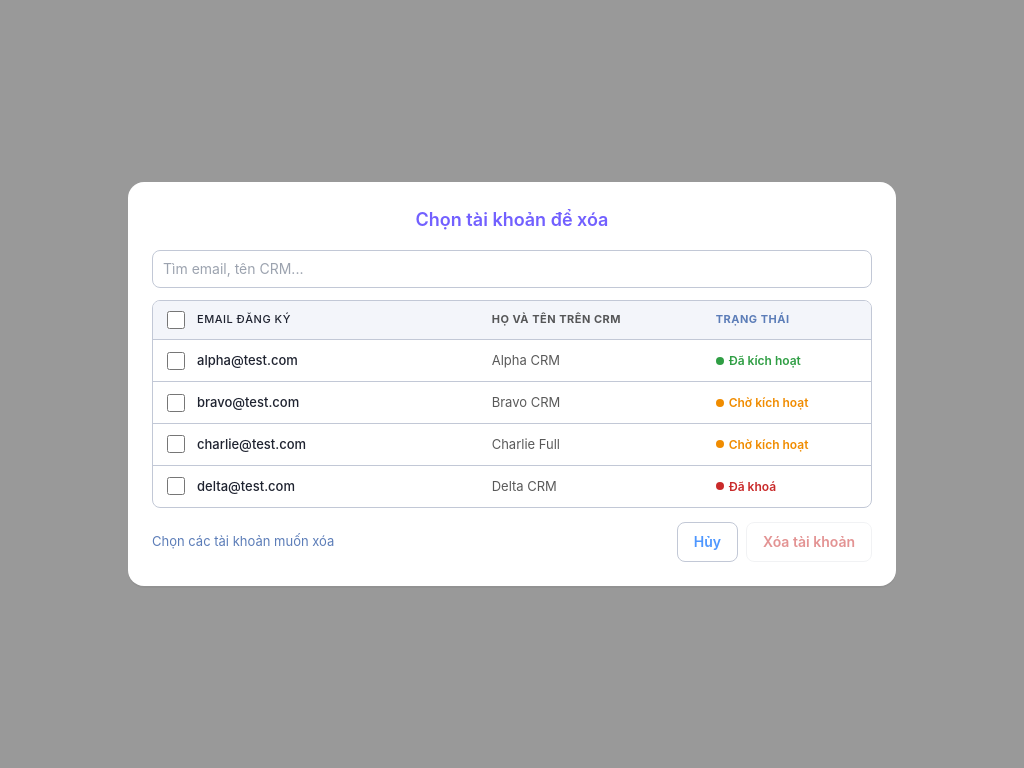
DeleteAccountsModal › ô tìm kiếm lọc theo email và tên CRM (không phân biệt hoa-thường)
In the search field with placeholder "Tìm email, tên CRM...": (512, 269) [152,250,872,288], type "bravo"
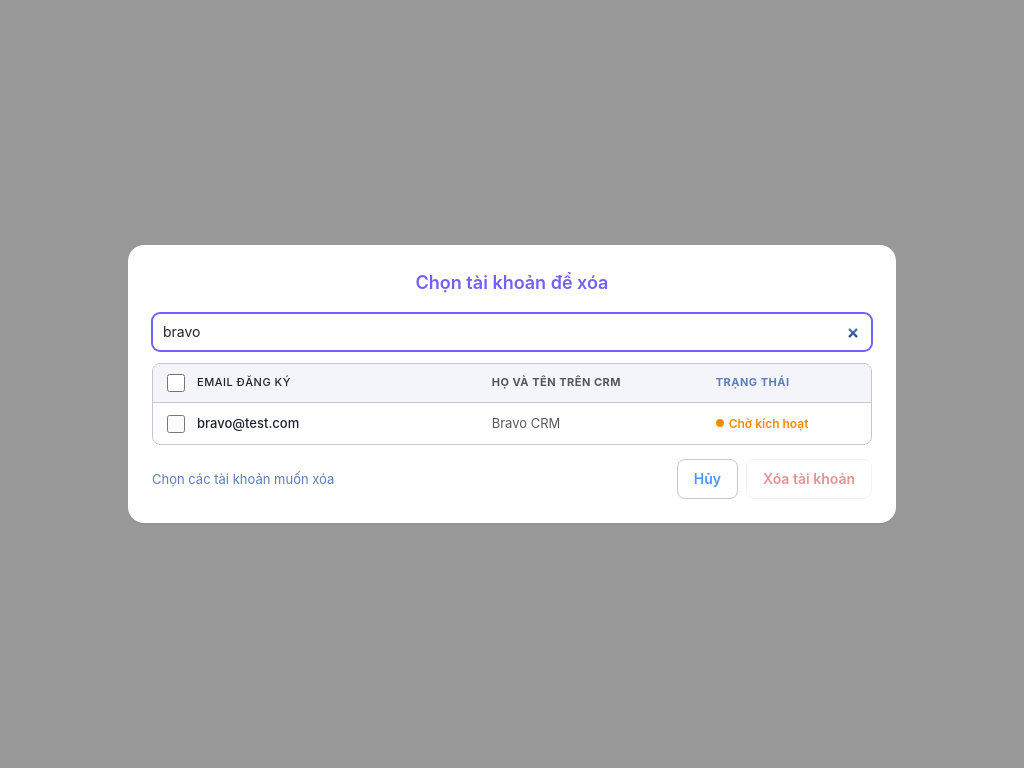
Expected: the text "bravo@test.com" is shown, [197,415,299,431]
Expected: the text "alpha@test.com" is gone
Clear the search field with placeholder "Tìm email, tên CRM...": (512, 332) [152,313,872,351]
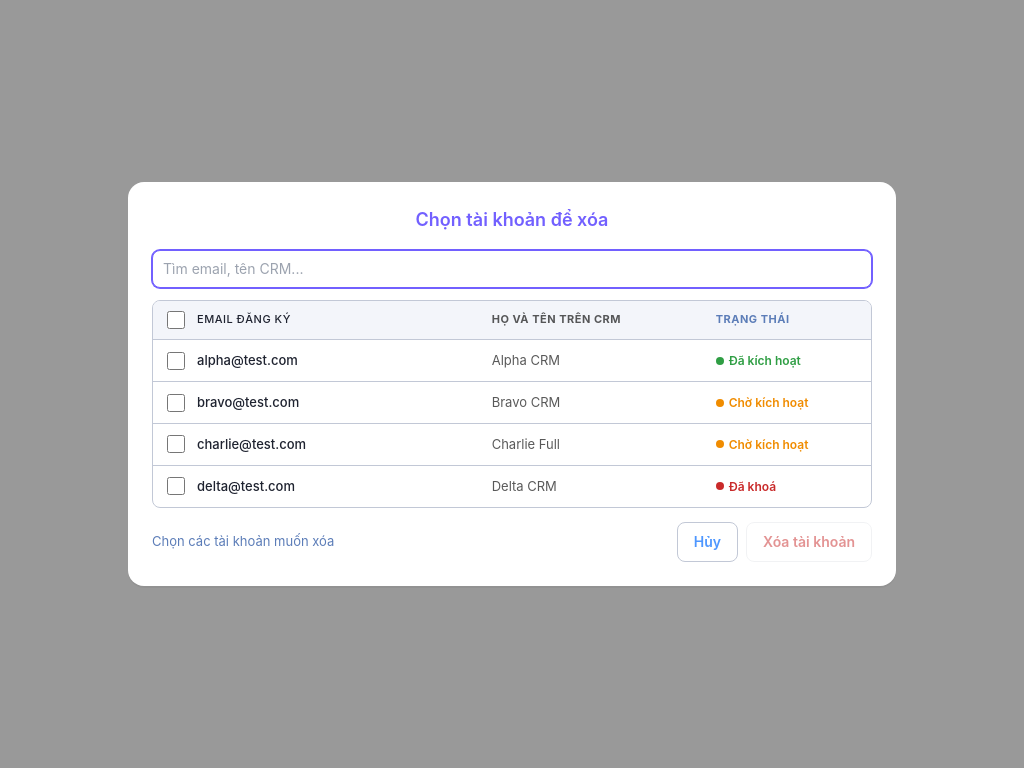
In the search field with placeholder "Tìm email, tên CRM...": (512, 269) [152,250,872,288], type "DELTA CRM"
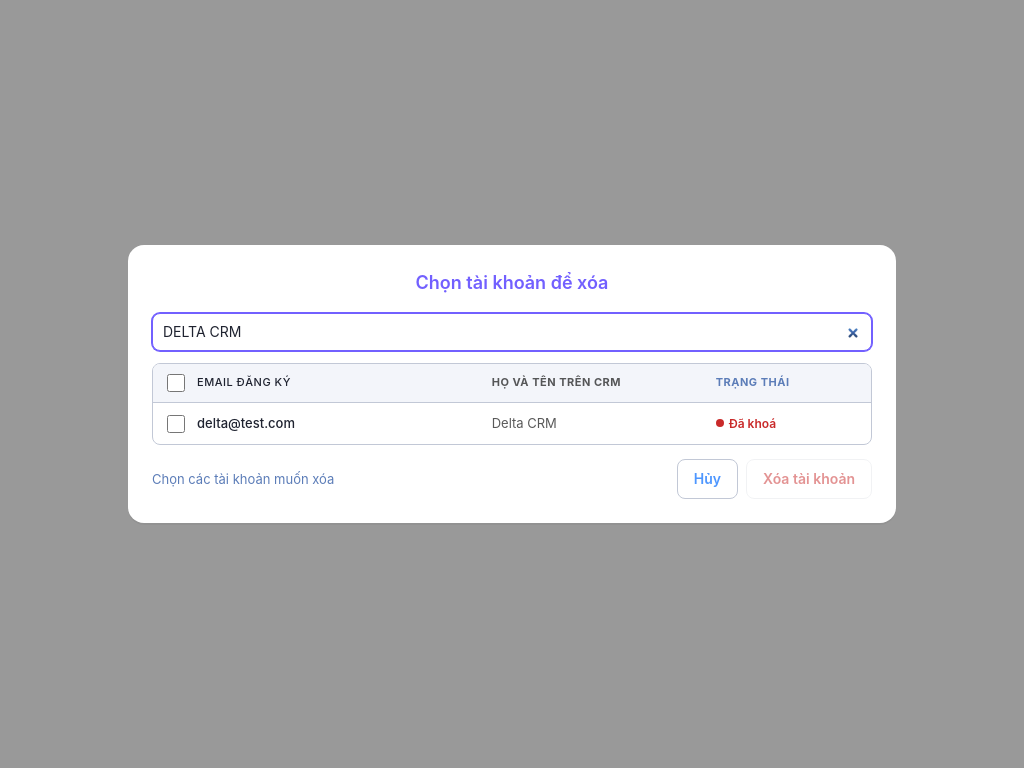
Expected: the text "delta@test.com" is shown, [197,415,295,431]
Expected: the text "alpha@test.com" is gone
